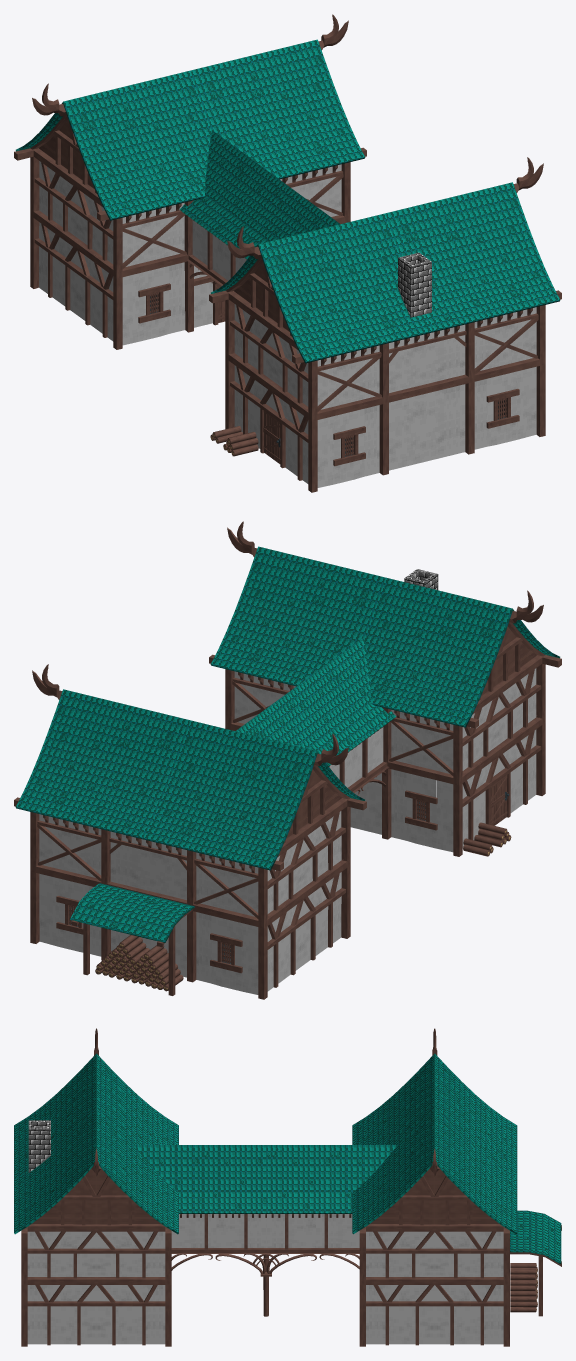
The model's file is maison4.glb.
3 renders of one model, top to bottom at view 1: azimuth 30°, elevation 25°; view 2: azimuth 150°, elevation 25°; view 3: azimuth 270°, elevation 25°, orthographic. The views are drawn at different scales.
Parts seen in each view (by area): view 1: Complex2; view 2: Complex2; view 3: Complex2.
Boxes of the visible parts, x1,y1,x2,y2 form: Complex2: (14,14,561,492); Complex2: (14,521,561,999); Complex2: (14,1028,561,1346).
Size of the model in its own units: 6.67 by 4.87 by 11.52.
1 material, 1 textured.
